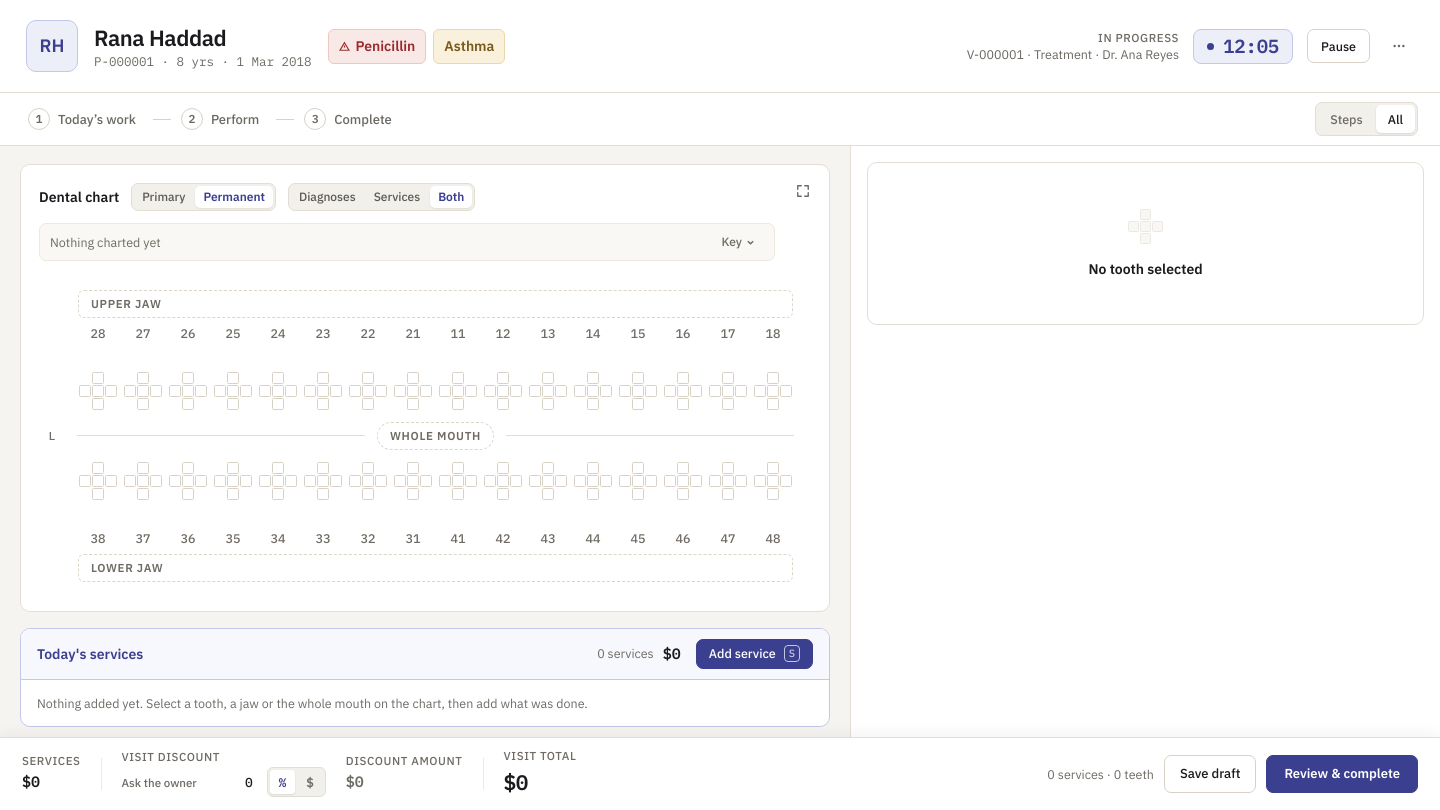
it: CatalogDrawer — in the workspace › Plan treatment plans on the diagnosed tooth, even after the selection moved
Check: the element named "Upper arch" is shown, box [78, 324, 793, 411]
Click the button named "#16 · ".
click(683, 367)  # box [663, 324, 703, 411]
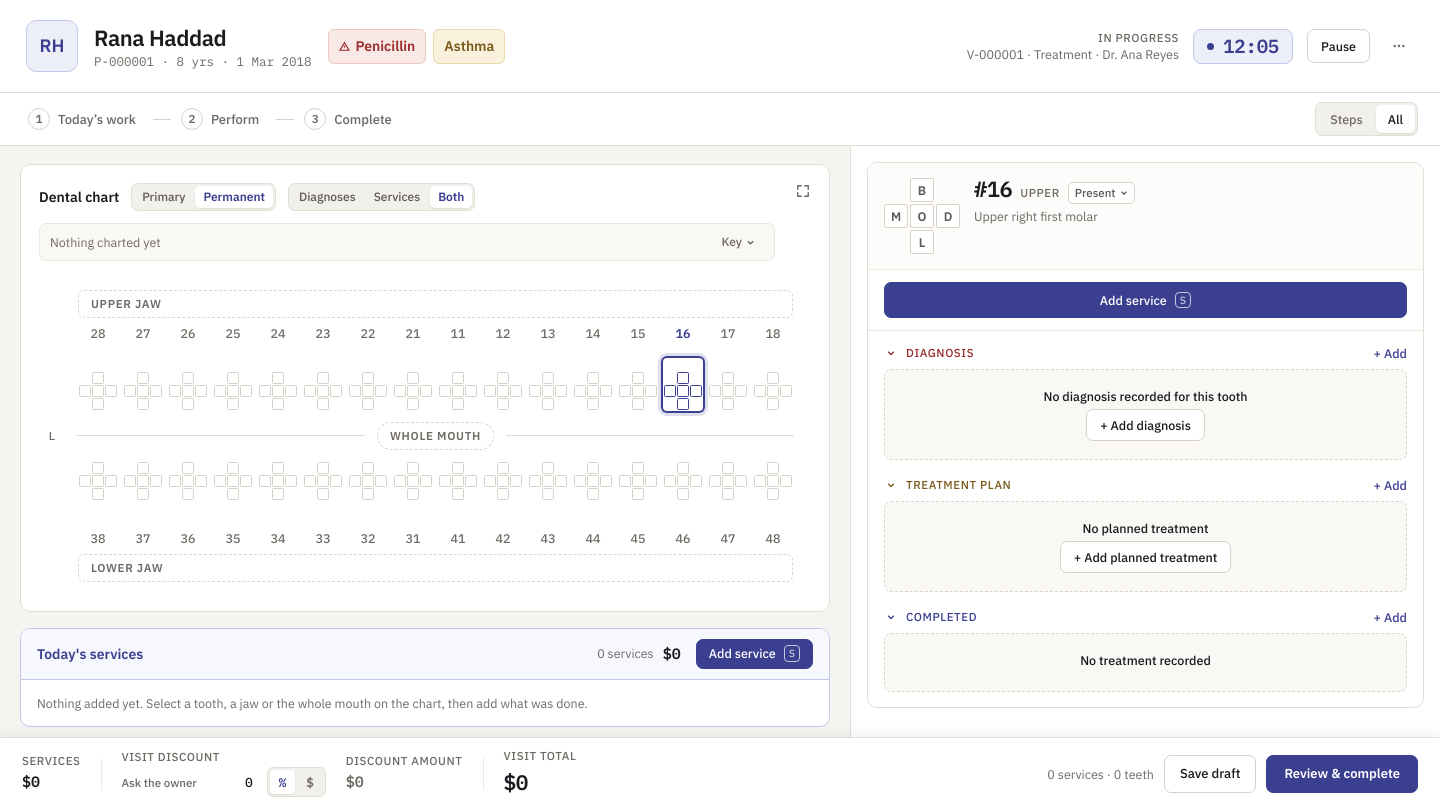
Click the button with aria-label "Add diagnosis".
click(1390, 353)  # box [1374, 347, 1407, 359]
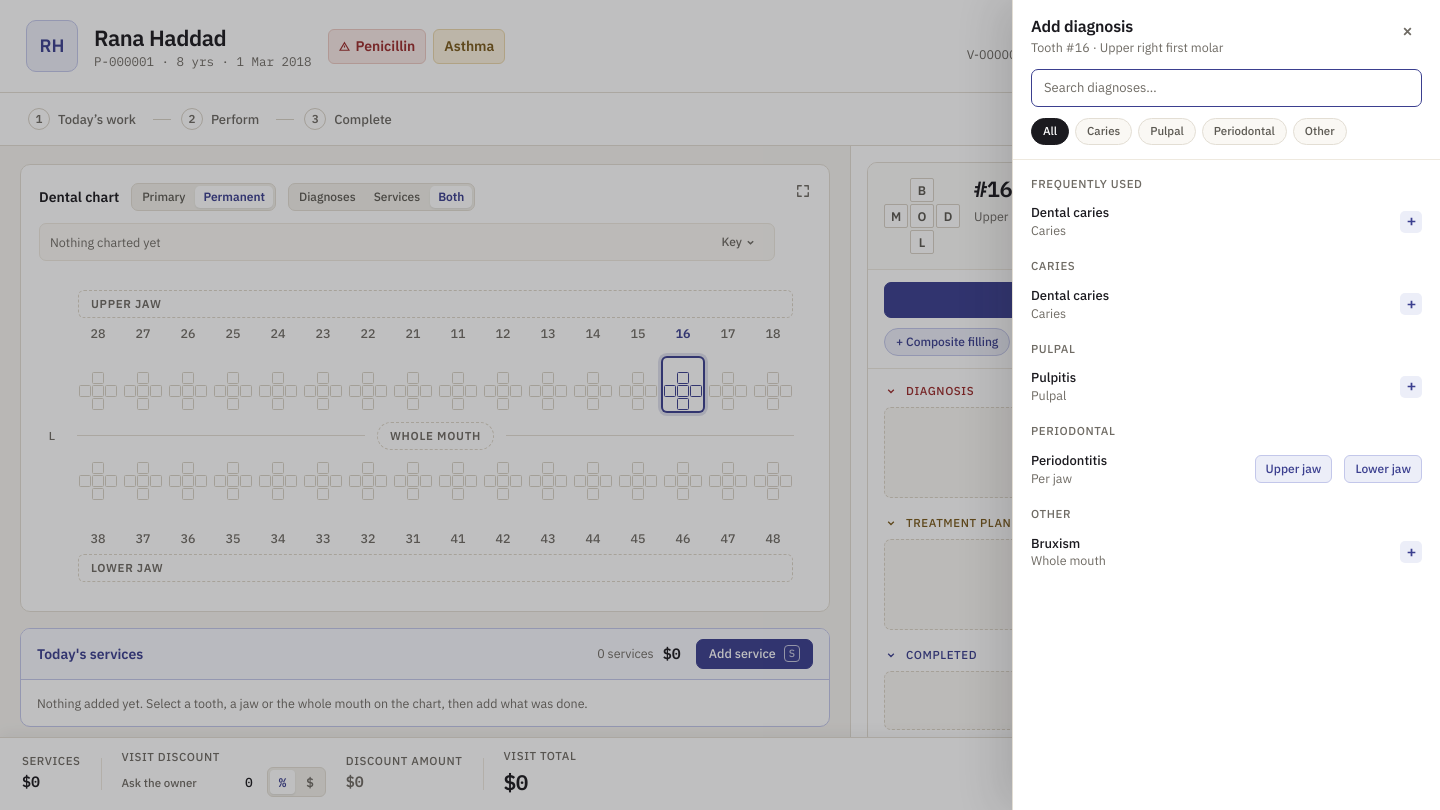
Click the button "Dental caries Caries" below "Frequently used".
click(1070, 212)  # box [1013, 195, 1439, 248]
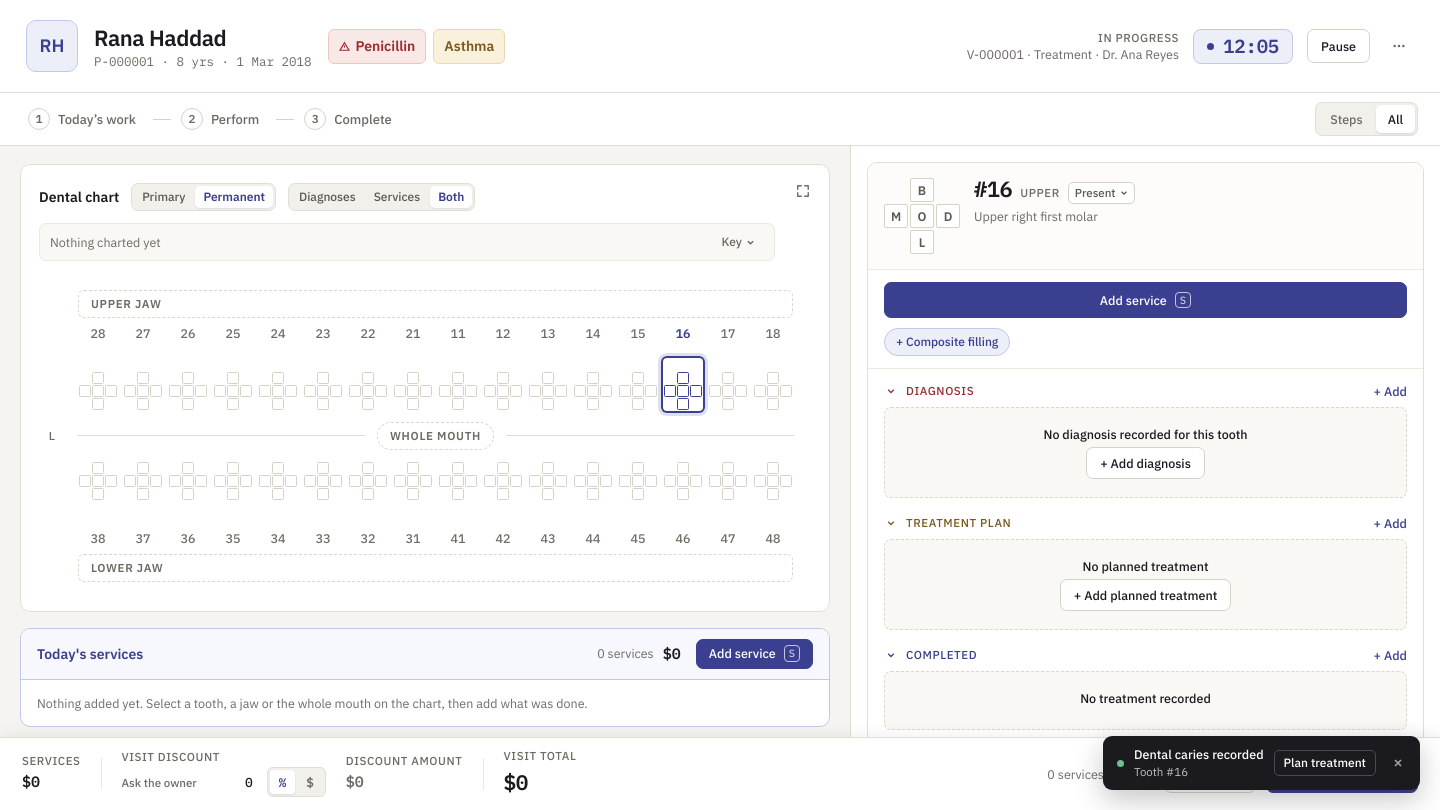
Check: the text "Dental caries recorded" is shown, box [1134, 746, 1264, 764]
Click the button named "#17 · ".
click(728, 367)  # box [708, 324, 748, 411]
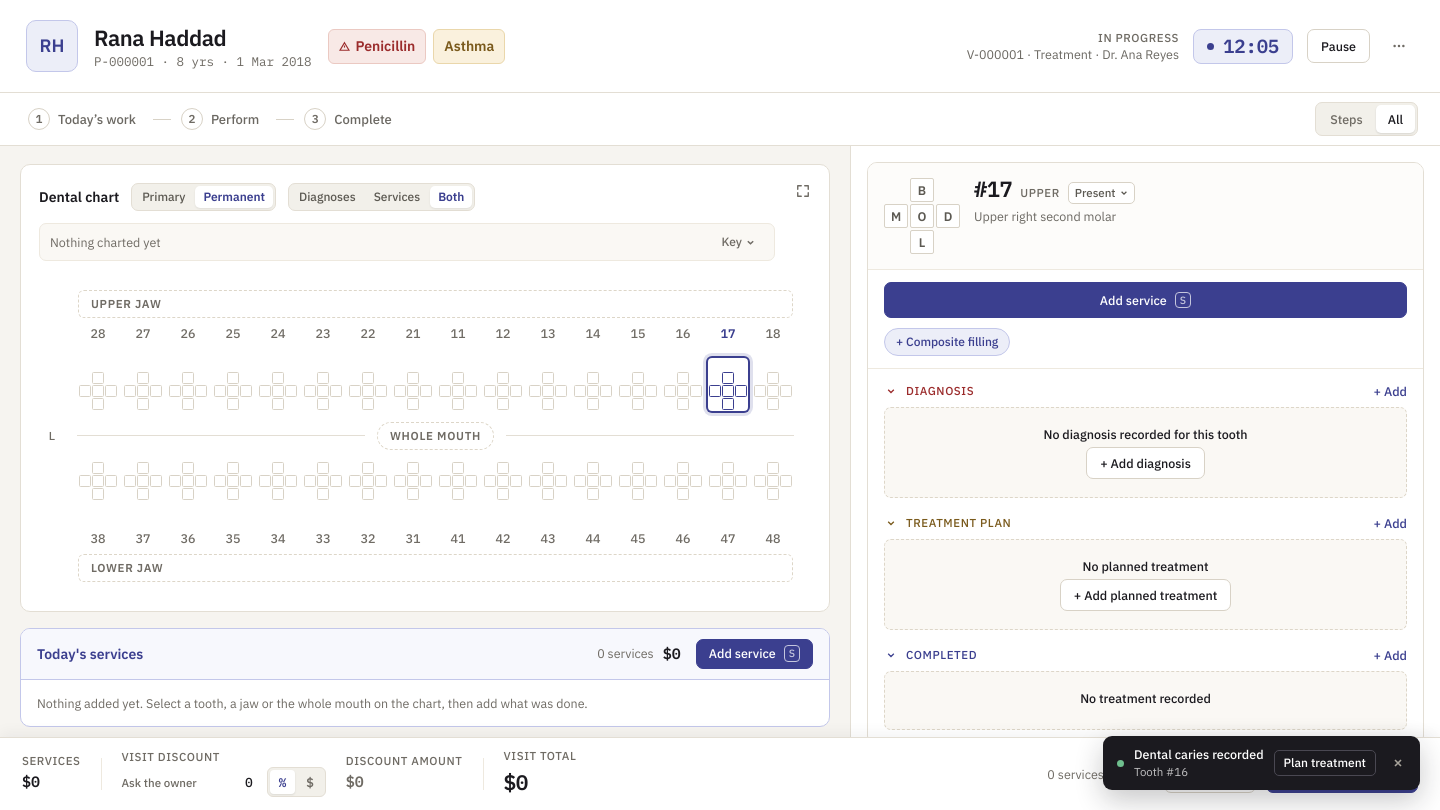
Click the button "Plan treatment".
click(1325, 763)  # box [1274, 750, 1376, 776]
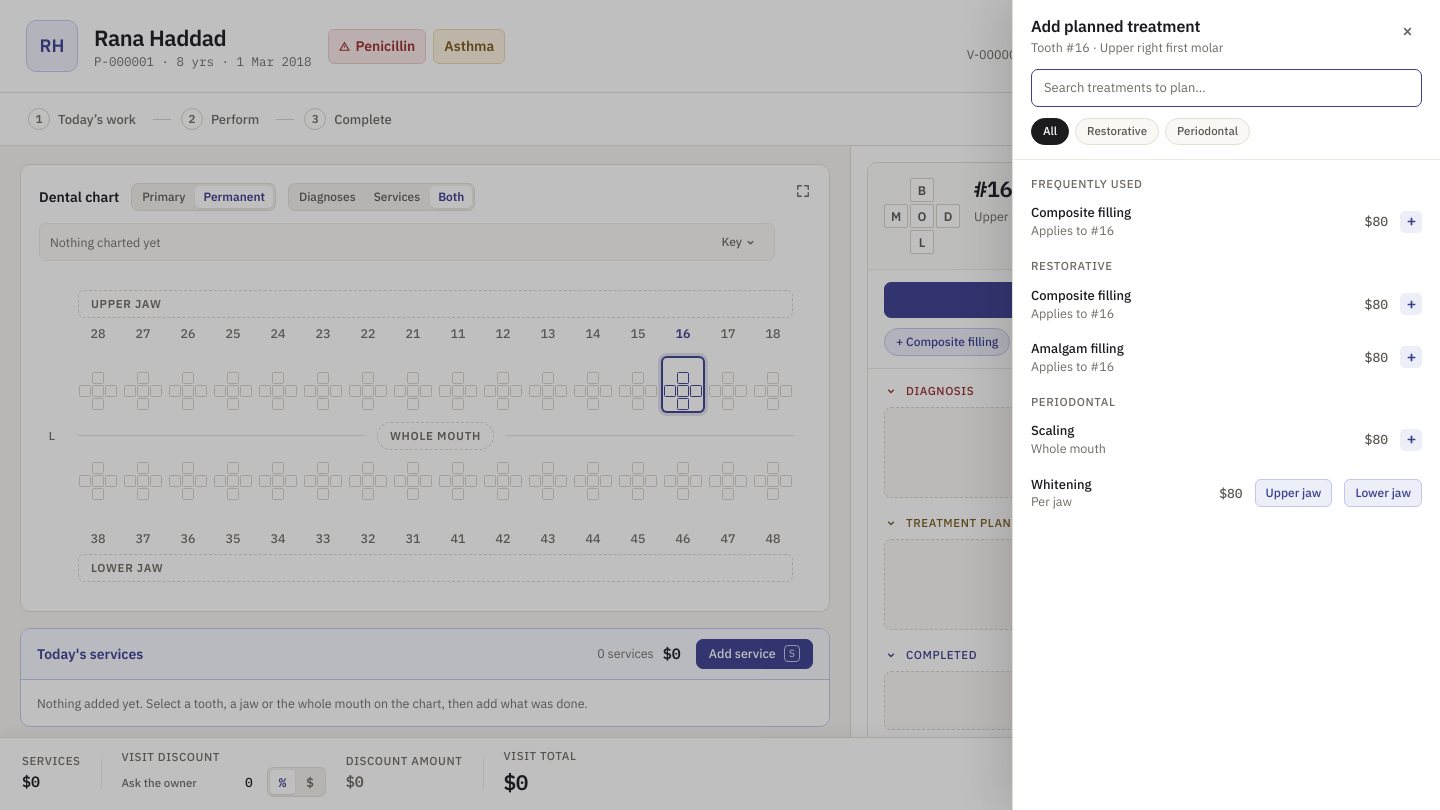
Check: the text "Tooth #16 · Upper right first molar" is shown, box [1031, 39, 1223, 55]
